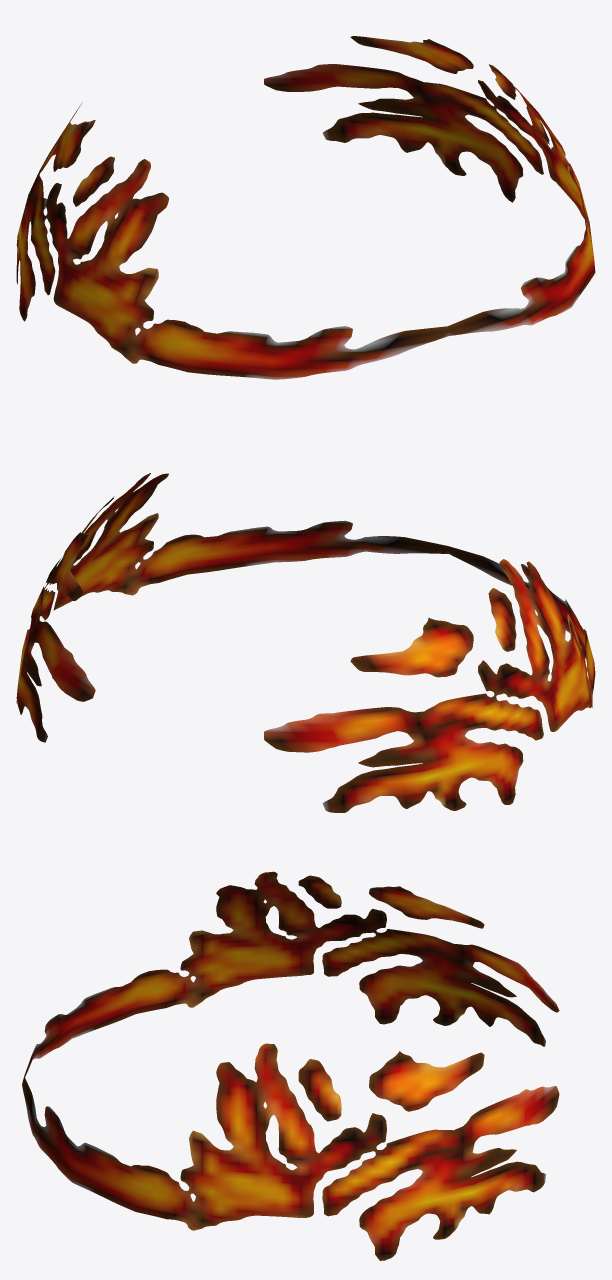
The model's file is hellpillarOutIn.fbx.
3 renders of one model, top to bottom at view 1: azimuth 30°, elevation 25°; view 2: azimuth 150°, elevation 25°; view 3: azimuth 270°, elevation 25°, orthographic.
Parts seen in each view (by area): view 1: hellpillarLoadOut; view 2: hellpillarLoadOut; view 3: hellpillarLoadOut.
Boxes of the visible parts, x1=… form: hellpillarLoadOut: x1=16, y1=36, x2=595, y2=379; hellpillarLoadOut: x1=16, y1=473, x2=595, y2=812; hellpillarLoadOut: x1=22, y1=871, x2=559, y2=1260.
Size of the model in its own units: 2 by 0.7071 by 2.
